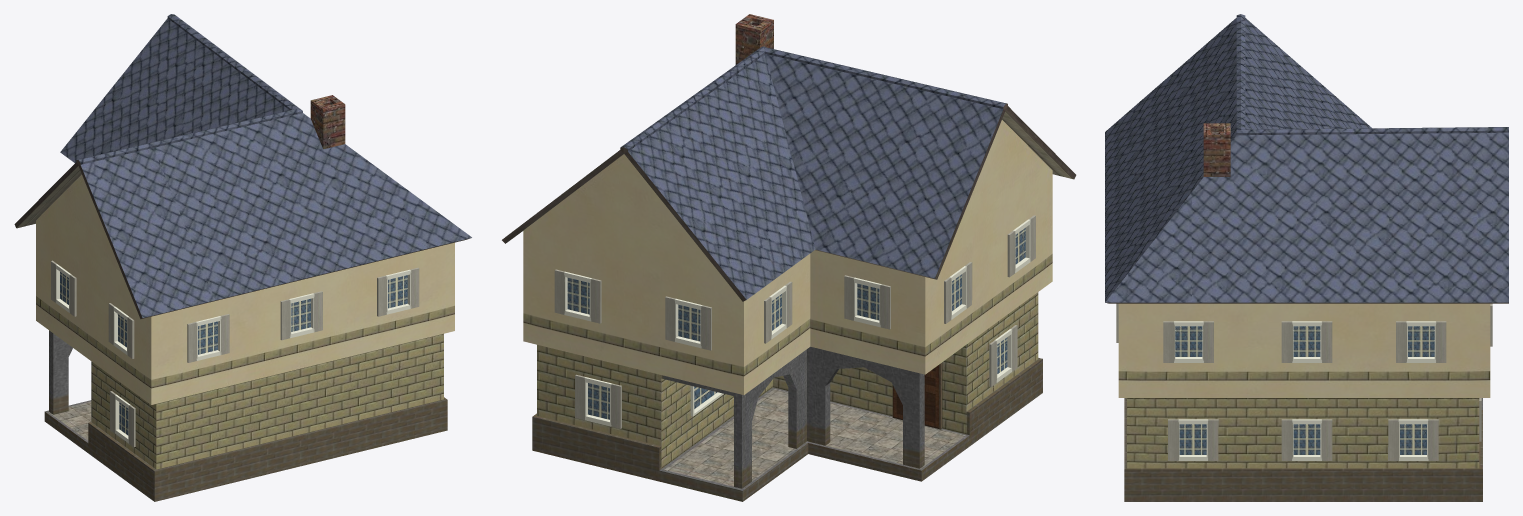
File: cornershop.fbx
The picture shows the model from 3 angles, left to right: view 1: azimuth 30°, elevation 25°; view 2: azimuth 150°, elevation 25°; view 3: azimuth 270°, elevation 25°; orthographic projection. The views are drawn at different scales.
Parts seen in each view (by area): view 1: Object_cornershop_texture.jpg; view 2: Object_cornershop_texture.jpg; view 3: Object_cornershop_texture.jpg.
Boxes of the visible parts, <box> form: Object_cornershop_texture.jpg: <box>14,14,471,501</box>; Object_cornershop_texture.jpg: <box>502,14,1076,501</box>; Object_cornershop_texture.jpg: <box>1105,14,1508,501</box>.
Size of the model in its own units: 2.5 by 2.28 by 2.5.
